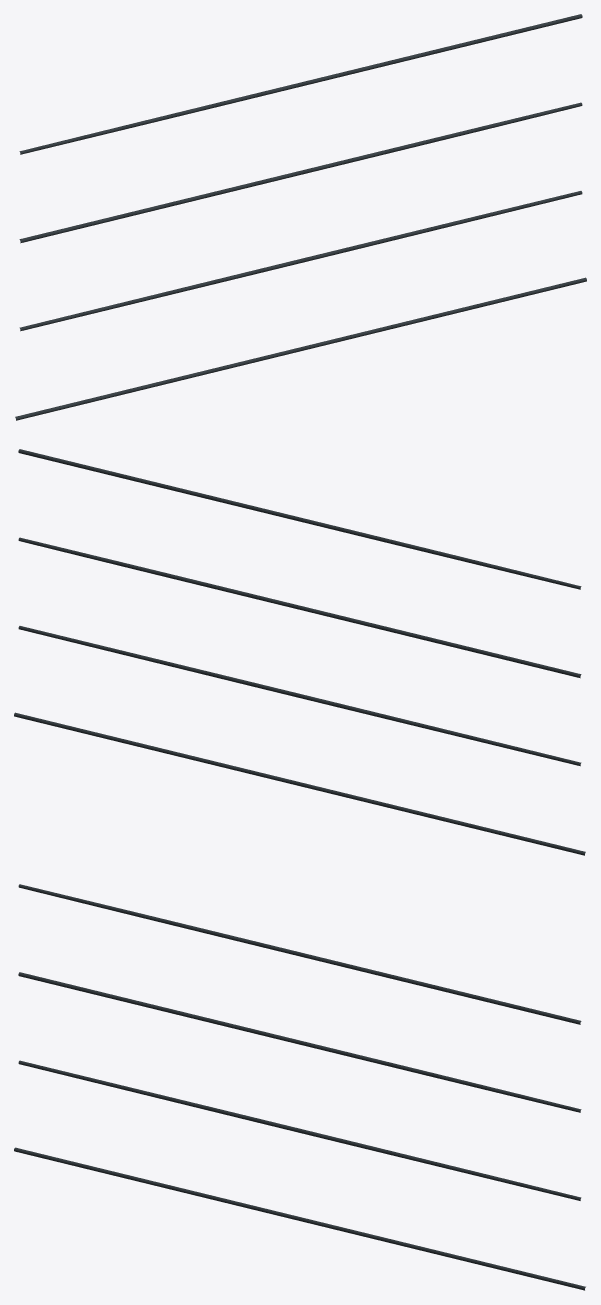
File: shaft_profiles.glb
3 views of the same model, one above another, from view 1: azimuth 30°, elevation 25°; view 2: azimuth 150°, elevation 25°; view 3: azimuth 330°, elevation 25° (orthographic).
Parts seen in each view (by area): view 1: front_taper, parallel, rear_taper, barrelled; view 2: front_taper, parallel, rear_taper, barrelled; view 3: front_taper, parallel, rear_taper, barrelled.
Boxes of the visible parts, x1=… form: front_taper: x1=19, y1=102, x2=582, y2=243; parallel: x1=15, y1=277, x2=586, y2=420; rear_taper: x1=19, y1=14, x2=582, y2=154; barrelled: x1=19, y1=191, x2=582, y2=331; front_taper: x1=18, y1=537, x2=581, y2=678; parallel: x1=14, y1=712, x2=585, y2=855; rear_taper: x1=18, y1=449, x2=581, y2=589; barrelled: x1=18, y1=626, x2=581, y2=766; front_taper: x1=18, y1=972, x2=581, y2=1112; parallel: x1=14, y1=1147, x2=585, y2=1290; rear_taper: x1=18, y1=884, x2=581, y2=1024; barrelled: x1=18, y1=1060, x2=581, y2=1200.
Size of the model in its own units: 0.8128 by 0.365 by 0.00516.
1 material, 1 textured.
